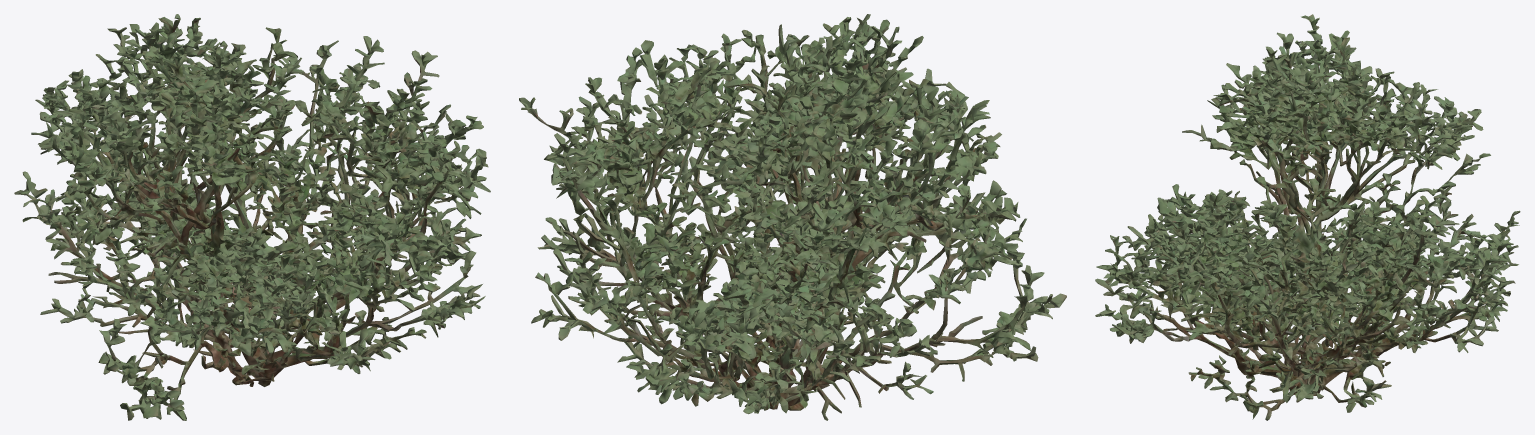
Rendered from alpine-shrub-v5-lod.glb.
3 views of the same model, side by side, from view 1: azimuth 30°, elevation 25°; view 2: azimuth 150°, elevation 25°; view 3: azimuth 270°, elevation 25° (orthographic). The views are drawn at different scales.
Parts seen in each view (by area): view 1: geometry_0; view 2: geometry_0; view 3: geometry_0.
Part boxes in pixels (x1,y1,x2,y2): geometry_0: (14, 14, 490, 420); geometry_0: (519, 14, 1066, 420); geometry_0: (1095, 14, 1520, 420).
Size of the model in its own units: 1.2 by 1.03 by 1.19.
Materials: 1 (1 with a texture image).
